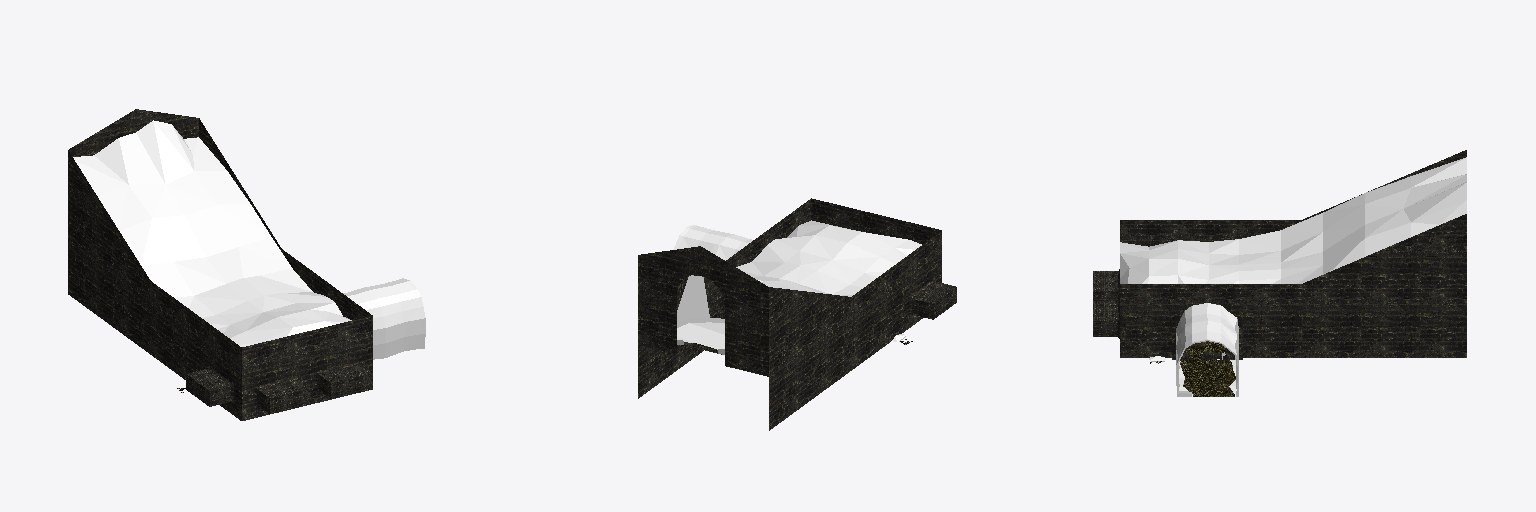
The picture shows the model from 3 angles: view 1: azimuth 30°, elevation 25°; view 2: azimuth 150°, elevation 25°; view 3: azimuth 270°, elevation 25°; orthographic projection.
Visible parts, largest first — view 1: mesh1, mesh0; view 2: mesh0, mesh1, mesh2; view 3: mesh0, mesh1, mesh8.
Boxes of the visible parts, box(x1,y1,x2,y2) form: mesh1: box(73, 120, 425, 359); mesh0: box(68, 109, 372, 420); mesh0: box(638, 198, 956, 430); mesh1: box(673, 220, 921, 349); mesh2: box(677, 275, 724, 354); mesh0: box(1093, 150, 1466, 360); mesh1: box(1120, 157, 1466, 396); mesh8: box(1180, 341, 1235, 396).
Size of the model in its own units: 11.55 by 7.95 by 15.91.
9 materials, 4 textured.